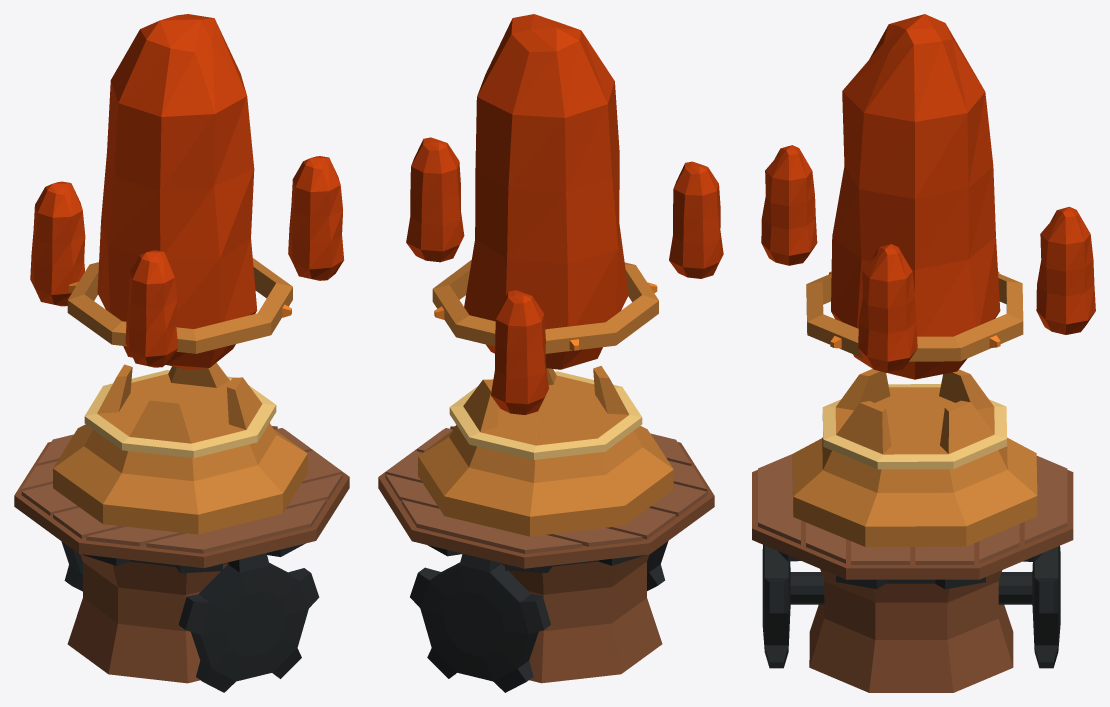
Rendered from FireRate Level 3.FBX.
The picture shows the model from 3 angles, left to right: view 1: azimuth 30°, elevation 25°; view 2: azimuth 150°, elevation 25°; view 3: azimuth 270°, elevation 25°; orthographic projection. The views are drawn at different scales.
Parts seen in each view (by area): view 1: MagicCrystal.004; view 2: MagicCrystal.004; view 3: MagicCrystal.004.
Boxes of the visible parts, bbox=[...] form: MagicCrystal.004: bbox=[14, 14, 349, 692]; MagicCrystal.004: bbox=[378, 14, 723, 692]; MagicCrystal.004: bbox=[752, 14, 1095, 692].
Size of the model in its own units: 205 by 422 by 208.
1 material, 1 textured.
